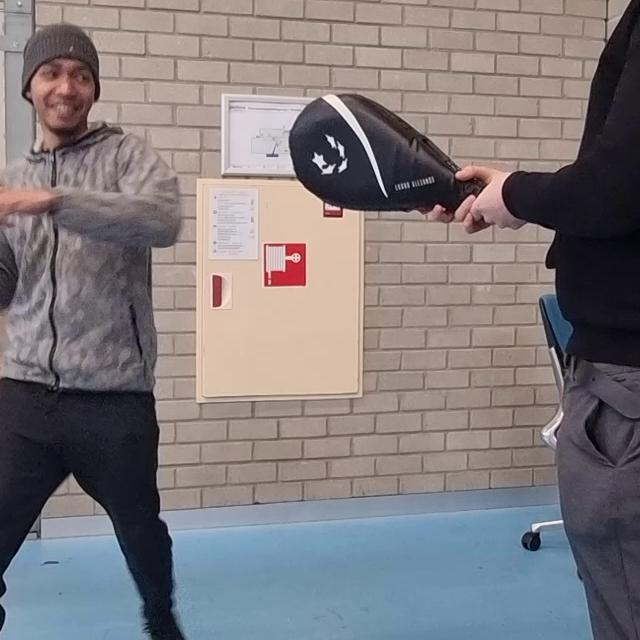paddle: (289, 94, 478, 211)
